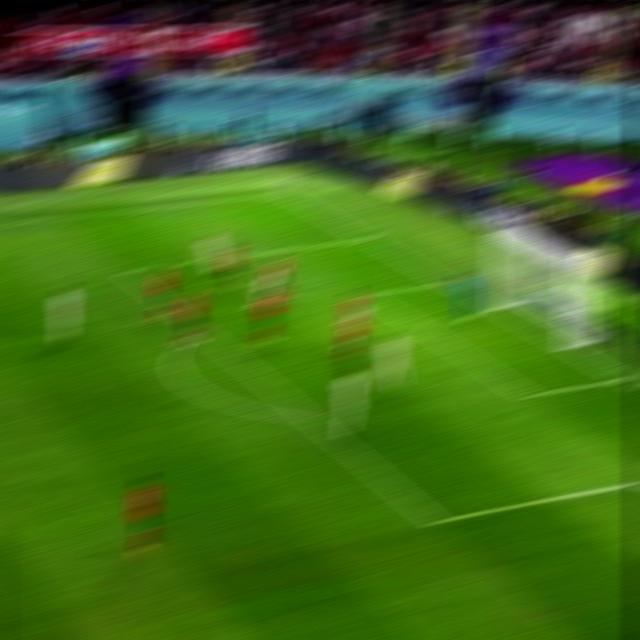bigarea_bottom_inner: (421, 503, 451, 538)
bigarea_top_inner: (117, 262, 136, 282)
bigarea_top_outter: (353, 233, 379, 244)
bottom_arc_area_intersection: (297, 405, 320, 430)
corner: (272, 188, 293, 200)
smallarea_bottom_inner: (519, 386, 540, 406)
smallarea_bottom_outter: (610, 369, 635, 392)
smallarea_top_inner: (355, 285, 378, 305)
smallarea_top_outter: (437, 273, 458, 290)
top_arc_area_intersection: (192, 324, 210, 337)
